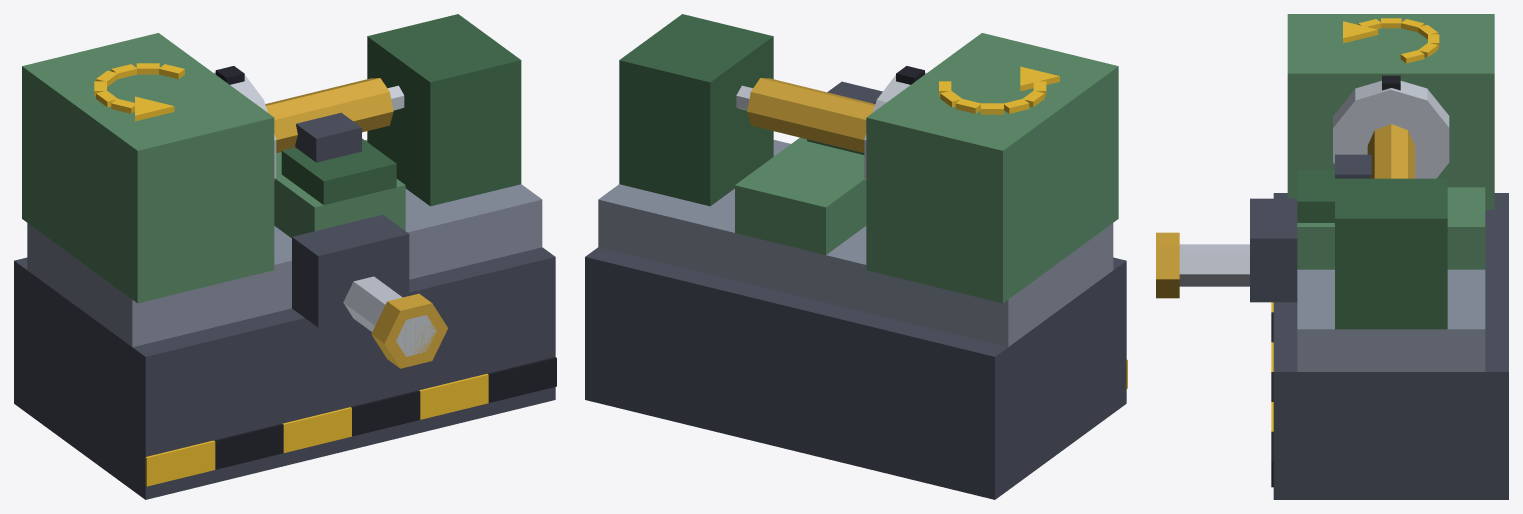
File: lathe-ccw.glb
3 views of the same model, side by side, from view 1: azimuth 30°, elevation 25°; view 2: azimuth 150°, elevation 25°; view 3: azimuth 270°, elevation 25° (orthographic). The views are drawn at different scales.
Visible parts, largest first — view 1: lathe-ccw, slide-x, spin-x; view 2: lathe-ccw, slide-x, spin-x; view 3: lathe-ccw, spin-x, slide-x.
Boxes of the visible parts, x1,y1,x2,y2 form: lathe-ccw: (14,14,556,499); slide-x: (274,112,405,238); spin-x: (214,66,393,181); lathe-ccw: (585,14,1127,499); slide-x: (735,81,882,254); spin-x: (747,66,926,180); lathe-ccw: (1156,14,1508,499); spin-x: (1333,75,1449,178); slide-x: (1297,154,1485,269).
Size of the model in its own units: 0.9 by 0.732 by 0.75.
Materials: 3 (3 with a texture image).
